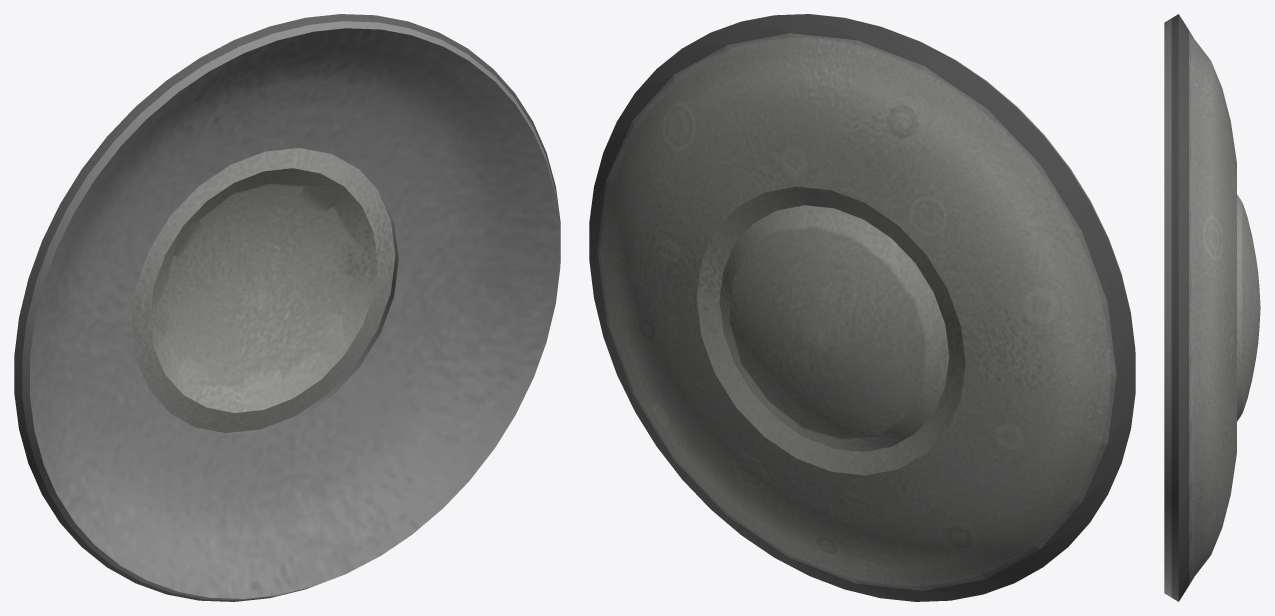
Rendered from nt_2020_kitchen_light_01_off_LOD0.obj.
3 renders of one model, left to right at view 1: azimuth 30°, elevation 25°; view 2: azimuth 150°, elevation 25°; view 3: azimuth 270°, elevation 25°, orthographic. The views are drawn at different scales.
Visible parts, largest first — view 1: glass_frosted, mtl_nt_2020_kitchen_light_glass_off, nt_2020_metal_chrome; view 2: mtl_nt_2020_kitchen_light_glass_off, nt_2020_metal_chrome; view 3: mtl_nt_2020_kitchen_light_glass_off, nt_2020_metal_chrome, glass_frosted.
Boxes of the visible parts, bbox=[...] form: glass_frosted: bbox=[22, 21, 560, 600]; mtl_nt_2020_kitchen_light_glass_off: bbox=[131, 148, 395, 432]; nt_2020_metal_chrome: bbox=[14, 14, 560, 601]; mtl_nt_2020_kitchen_light_glass_off: bbox=[597, 33, 1116, 590]; nt_2020_metal_chrome: bbox=[589, 14, 1135, 601]; mtl_nt_2020_kitchen_light_glass_off: bbox=[1189, 30, 1260, 585]; nt_2020_metal_chrome: bbox=[1171, 14, 1188, 601]; glass_frosted: bbox=[1164, 18, 1171, 597].
Size of the model in its own units: 408 by 408 by 66.84.
